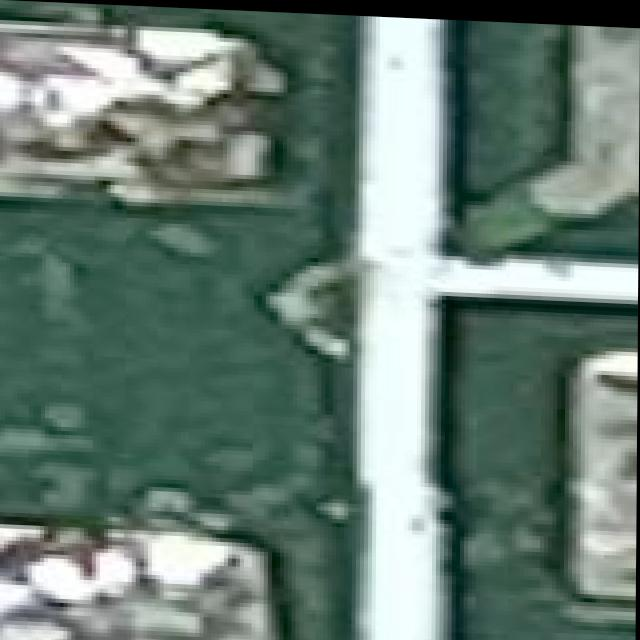transistor: (0, 0, 44, 346), (0, 536, 73, 640)
